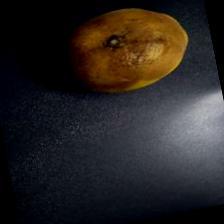Orange Rotten: (41, 0, 201, 115)
